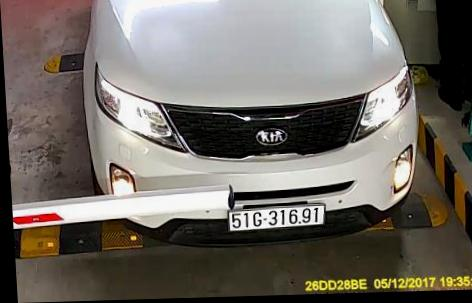License_Plate: (224, 200, 331, 237)
